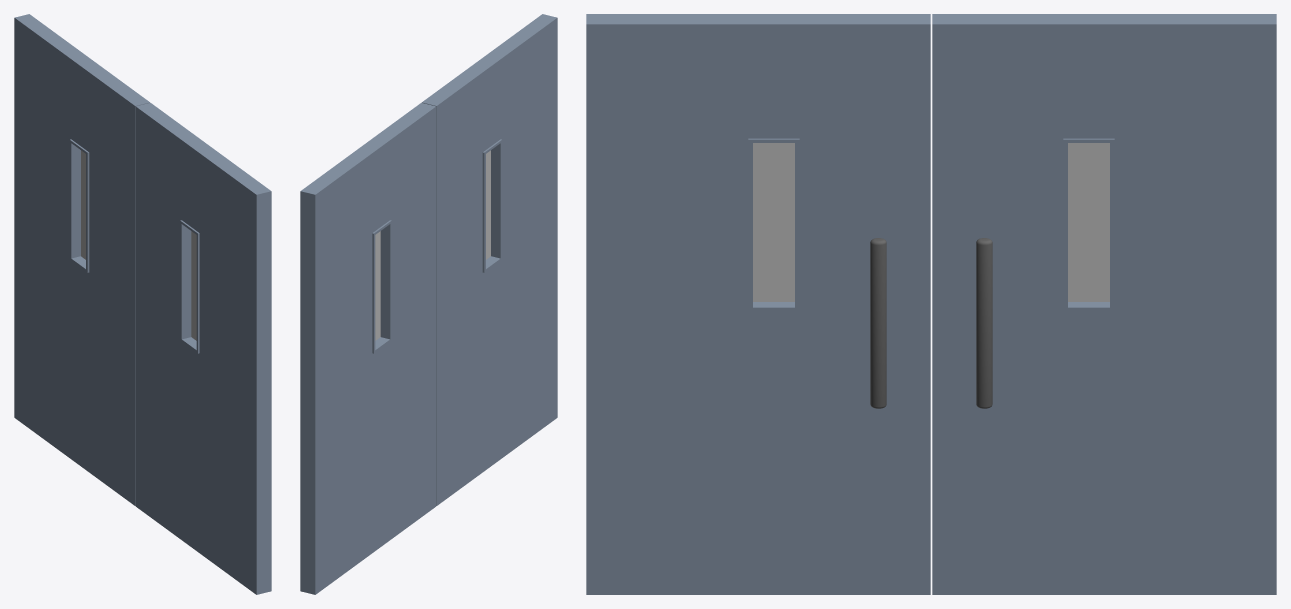
File: BigDoor.fbx
3 views of the same model, side by side, from view 1: azimuth 30°, elevation 25°; view 2: azimuth 150°, elevation 25°; view 3: azimuth 270°, elevation 25° (orthographic). The views are drawn at different scales.
Visible parts, largest first — view 1: BigDoorLeft, BigDoorRight, Window, Window_2; view 2: BigDoorRight, BigDoorLeft, Window_2, Window; view 3: BigDoorLeft, BigDoorRight, Window, Window_2, Cylinder, Cylinder_2_3.
Boxes of the visible parts, box(x1,y1,x2,y2) form: BigDoorLeft: box(135, 103, 271, 594); BigDoorRight: box(14, 14, 150, 505); Window: box(191, 231, 196, 340); Window_2: box(81, 150, 85, 259); BigDoorRight: box(300, 103, 436, 594); BigDoorLeft: box(421, 14, 557, 505); Window_2: box(375, 231, 380, 340); Window: box(486, 150, 490, 259); BigDoorLeft: box(586, 14, 930, 594); BigDoorRight: box(932, 14, 1276, 594); Window: box(753, 143, 794, 301); Window_2: box(1068, 143, 1109, 301); Cylinder: box(870, 238, 886, 408); Cylinder_2_3: box(976, 238, 992, 408).
Bounding box in the file's own units: 15.33 × 195 × 214.
Materials: 1 (1 with a texture image).
